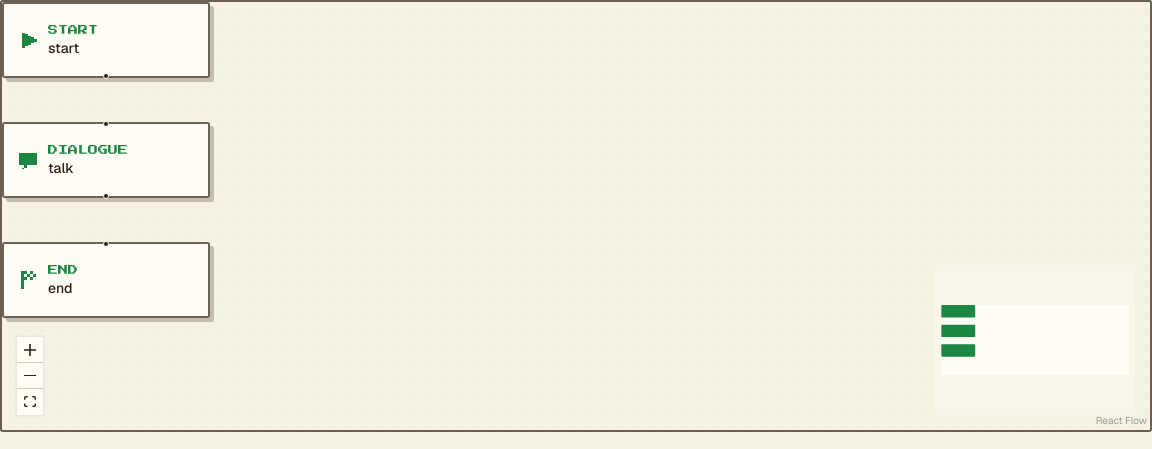
MissionCanvas › opens the read-only panel when a node is clicked
Click the text "talk".
click(61, 168)  # box x1=48 y1=159 x2=74 y2=177
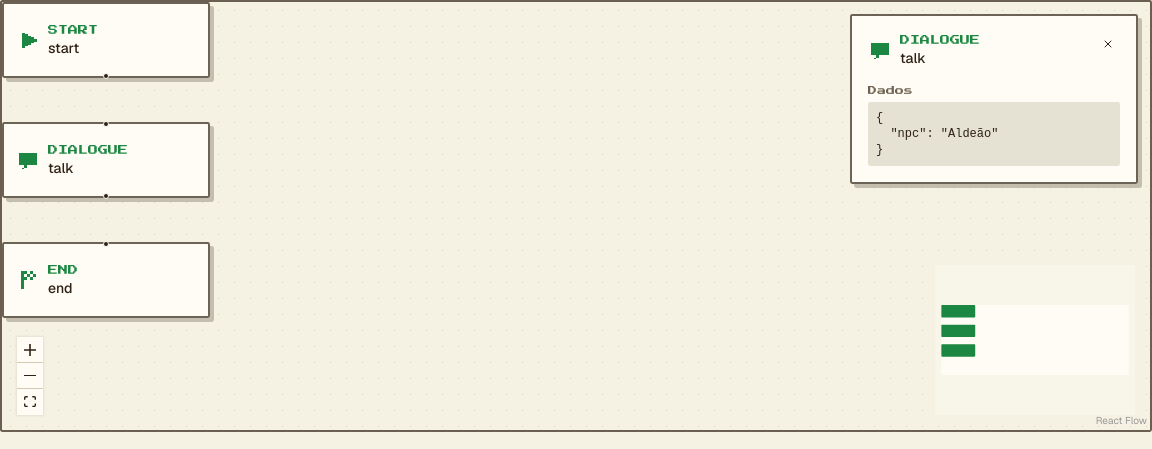
Result: the element with test id "node-panel" is shown at x1=850 y1=14 x2=1138 y2=184
Result: the text with test id "node-panel-data" shows "Aldeão" at x1=876 y1=110 x2=998 y2=156
